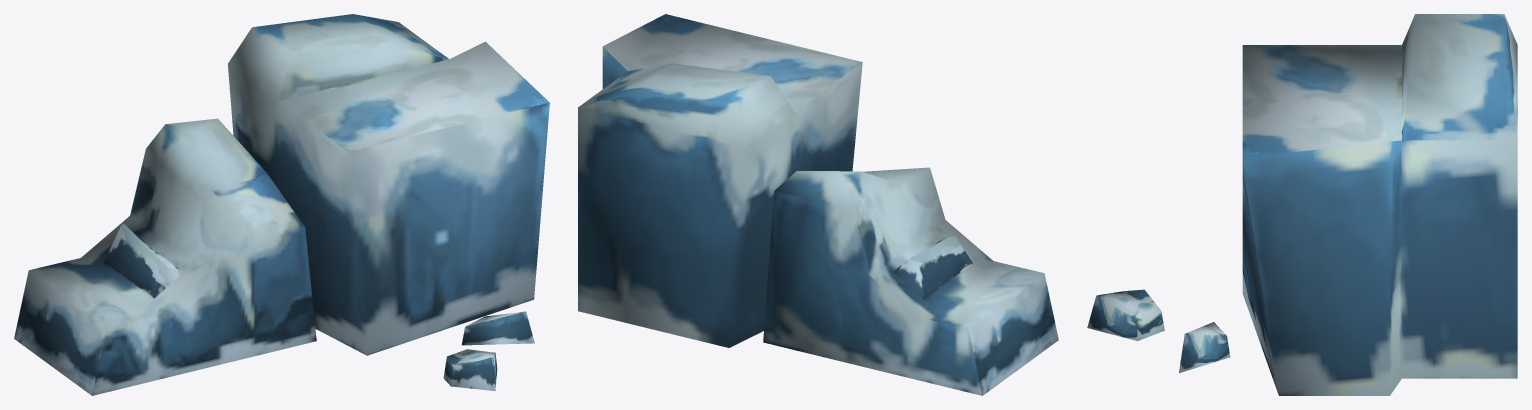
The model's file is Stage_BingYuan_FengHuoTaiShiDui02.FBX.
3 renders of one model, left to right at view 1: azimuth 30°, elevation 25°; view 2: azimuth 150°, elevation 25°; view 3: azimuth 270°, elevation 25°, orthographic. The views are drawn at different scales.
Parts seen in each view (by area): view 1: Stage_BingYuan_FengHuoTaiShiDui02; view 2: Stage_BingYuan_FengHuoTaiShiDui02; view 3: Stage_BingYuan_FengHuoTaiShiDui02.
Part boxes in pixels (x1,y1,x2,y2): Stage_BingYuan_FengHuoTaiShiDui02: (14,14,549,395); Stage_BingYuan_FengHuoTaiShiDui02: (578,14,1058,395); Stage_BingYuan_FengHuoTaiShiDui02: (1087,14,1517,395).
Bounding box in the file's own units: 178 × 97.06 × 135.
